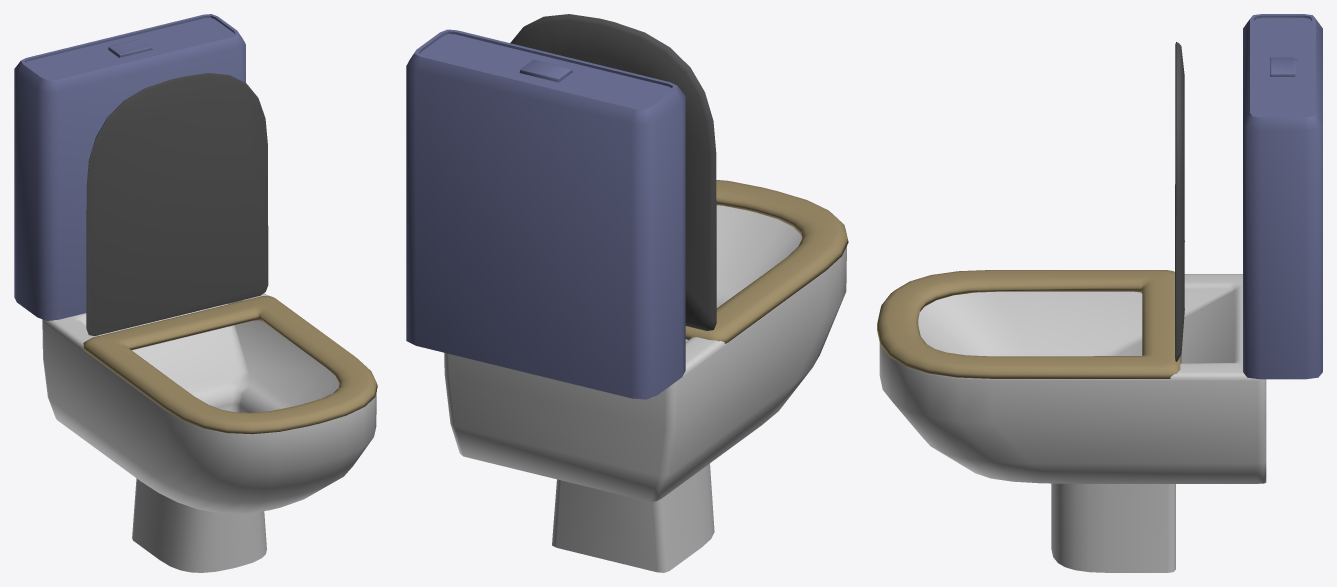
Rendered from Closet.fbx.
The picture shows the model from 3 angles, left to right: view 1: azimuth 30°, elevation 25°; view 2: azimuth 150°, elevation 25°; view 3: azimuth 270°, elevation 25°; orthographic projection. The views are drawn at different scales.
Parts seen in each view (by area): view 1: Box001, Shape001, Box002, Object001; view 2: Box002, Box001, Shape001, Object001; view 3: Box001, Box002, Object001, Shape001.
Part boxes in pixels (x1,y1,x2,y2): Box001: (42, 293, 376, 572); Shape001: (86, 73, 268, 335); Box002: (14, 14, 245, 320); Object001: (83, 295, 377, 434); Box002: (406, 29, 685, 399); Box001: (444, 205, 846, 572); Shape001: (510, 14, 716, 330); Object001: (685, 180, 848, 343); Box001: (879, 274, 1266, 572); Box002: (1243, 14, 1322, 379); Object001: (877, 270, 1181, 378); Shape001: (1175, 42, 1184, 361).
Bounding box in the file's own units: 38.64 × 80.4 × 66.53.
